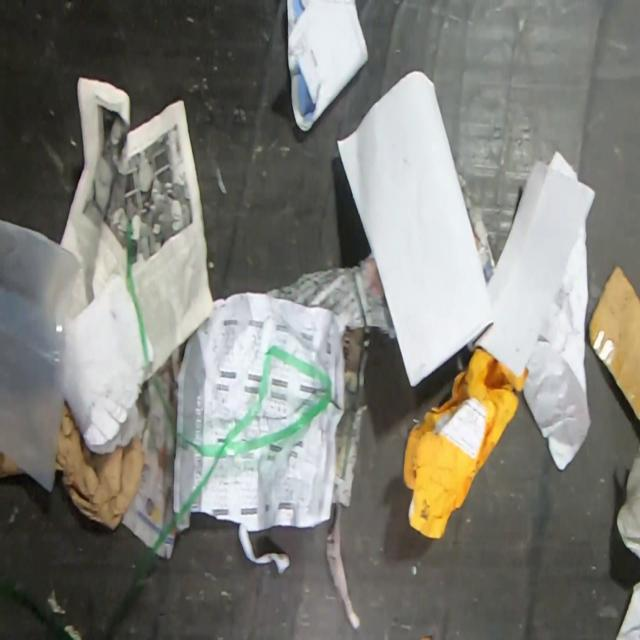cardboard: (54, 400, 144, 531), (588, 264, 639, 422)
soft_plastic: (0, 218, 85, 492)
